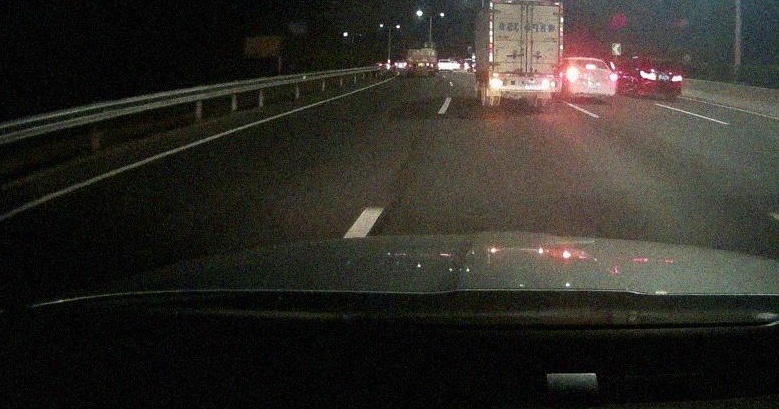L_light: (490, 80, 505, 88), (642, 72, 655, 81), (566, 71, 579, 78)
R_light: (542, 80, 555, 88), (671, 74, 682, 82), (606, 73, 617, 80)
T_light: (520, 4, 534, 9), (586, 64, 597, 70), (652, 62, 663, 66)
night-left: (564, 57, 617, 102)
night-no: (487, 0, 563, 106), (634, 61, 682, 99)
